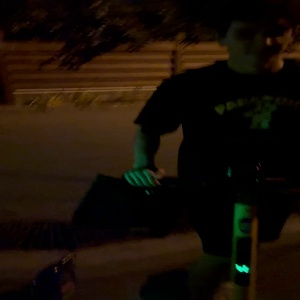human on a scooter: (64, 1, 300, 299)
